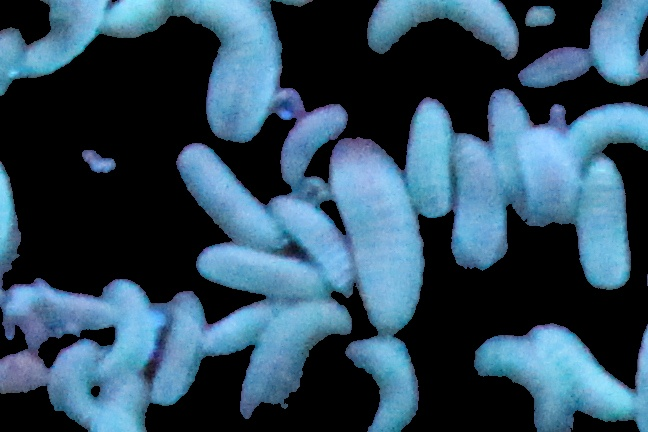larvae: (105, 1, 282, 143), (335, 129, 423, 332), (242, 300, 346, 414), (184, 138, 284, 246), (530, 324, 633, 421), (474, 336, 574, 432), (6, 1, 108, 87), (369, 1, 523, 55), (452, 136, 508, 272), (191, 241, 328, 294), (579, 159, 635, 288), (348, 333, 421, 430), (272, 197, 347, 282), (153, 288, 204, 409), (518, 125, 577, 228), (277, 109, 350, 192), (99, 277, 157, 380), (203, 294, 286, 363), (408, 95, 453, 216), (591, 1, 647, 89), (485, 87, 528, 187), (52, 338, 101, 425), (576, 104, 648, 152), (37, 286, 115, 329), (1, 131, 23, 280), (101, 379, 154, 432)
